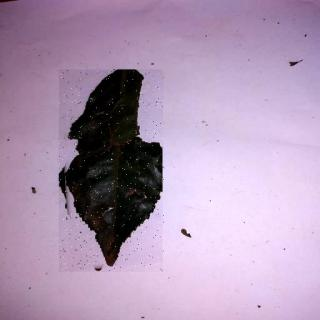Anthracnose: (61, 71, 166, 274)
